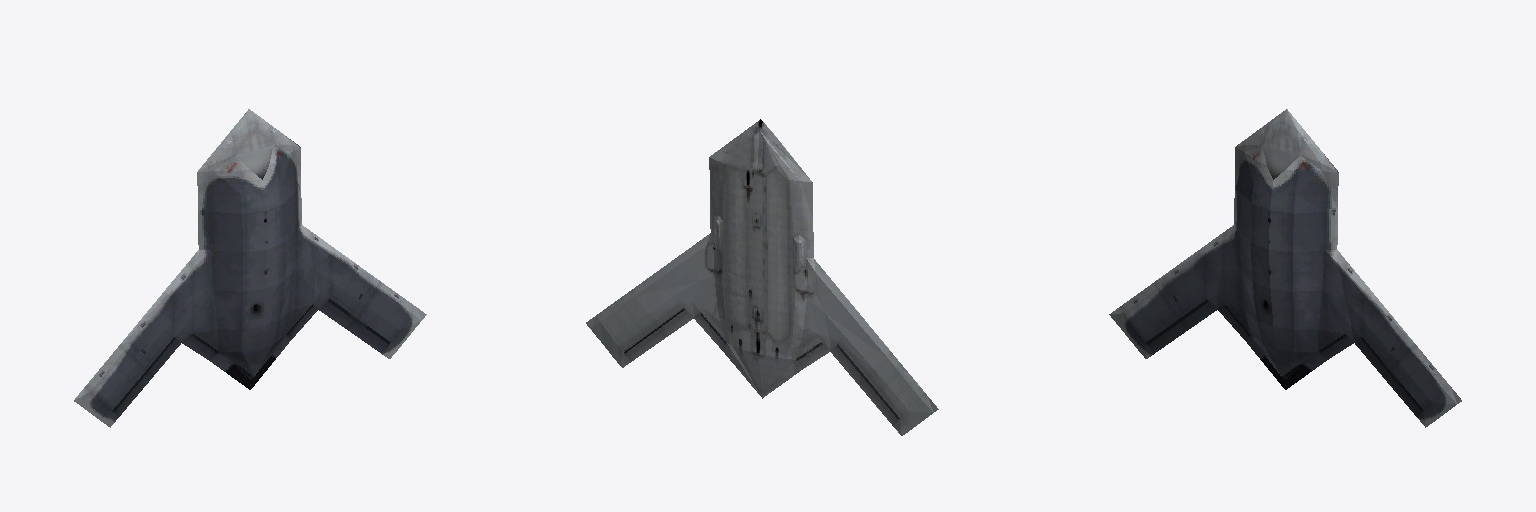
3 views of the same model, side by side, from view 1: azimuth 30°, elevation 25°; view 2: azimuth 150°, elevation 25°; view 3: azimuth 330°, elevation 25° (orthographic).
Parts seen in each view (by area): view 1: LOD0; view 2: LOD0; view 3: LOD0.
Boxes of the visible parts, box(x1,y1,x2,y2) form: LOD0: box(74, 109, 426, 427); LOD0: box(586, 119, 938, 435); LOD0: box(1109, 109, 1461, 427).
Bounding box in the file's own units: 10.53 × 8.09 × 1.15.
1 materials, 1 textured.